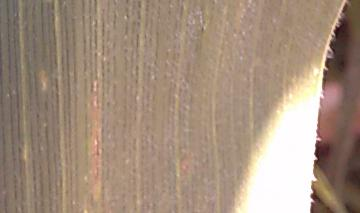tarspot: (34, 111, 42, 120), (201, 26, 207, 34)
